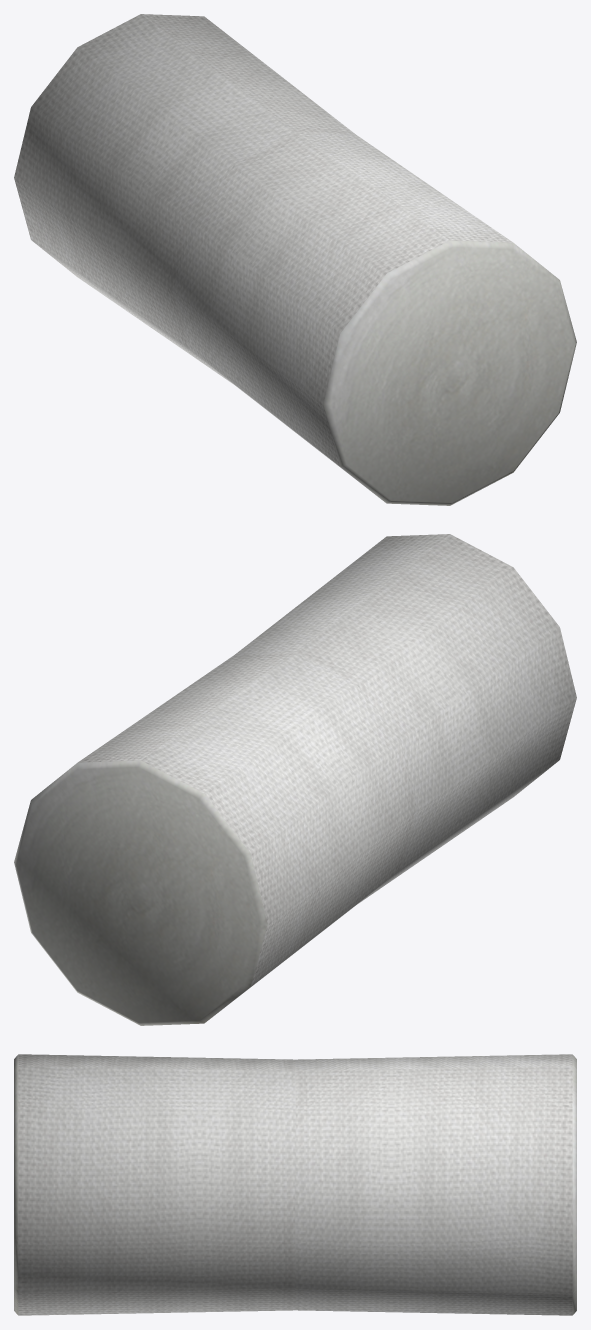
Rendered from bandage002.fbx.
3 renders of one model, top to bottom at view 1: azimuth 30°, elevation 25°; view 2: azimuth 150°, elevation 25°; view 3: azimuth 270°, elevation 25°, orthographic. The views are drawn at different scales.
Parts seen in each view (by area): view 1: Cylinder; view 2: Cylinder; view 3: Cylinder.
Boxes of the visible parts, x1,y1,x2,y2 form: Cylinder: (14,14,576,505); Cylinder: (14,534,576,1025); Cylinder: (14,1054,576,1315).
Bounding box in the file's own units: 15.99 × 15.99 × 34.29.
